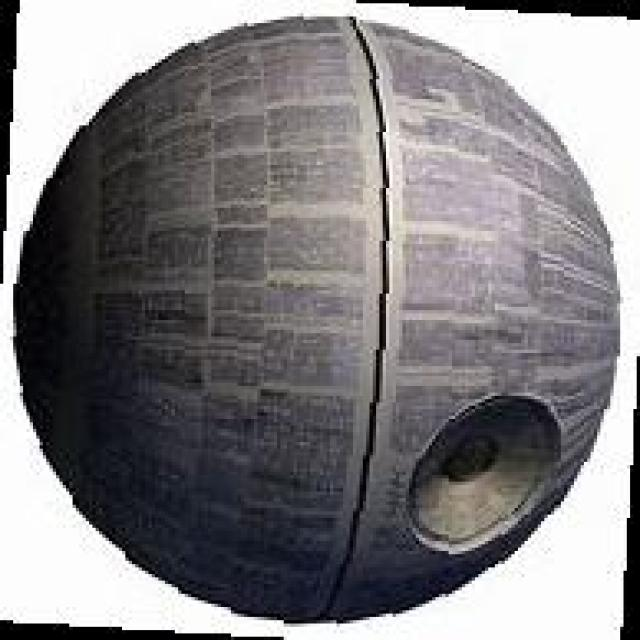Death Star: (6, 10, 624, 623)
